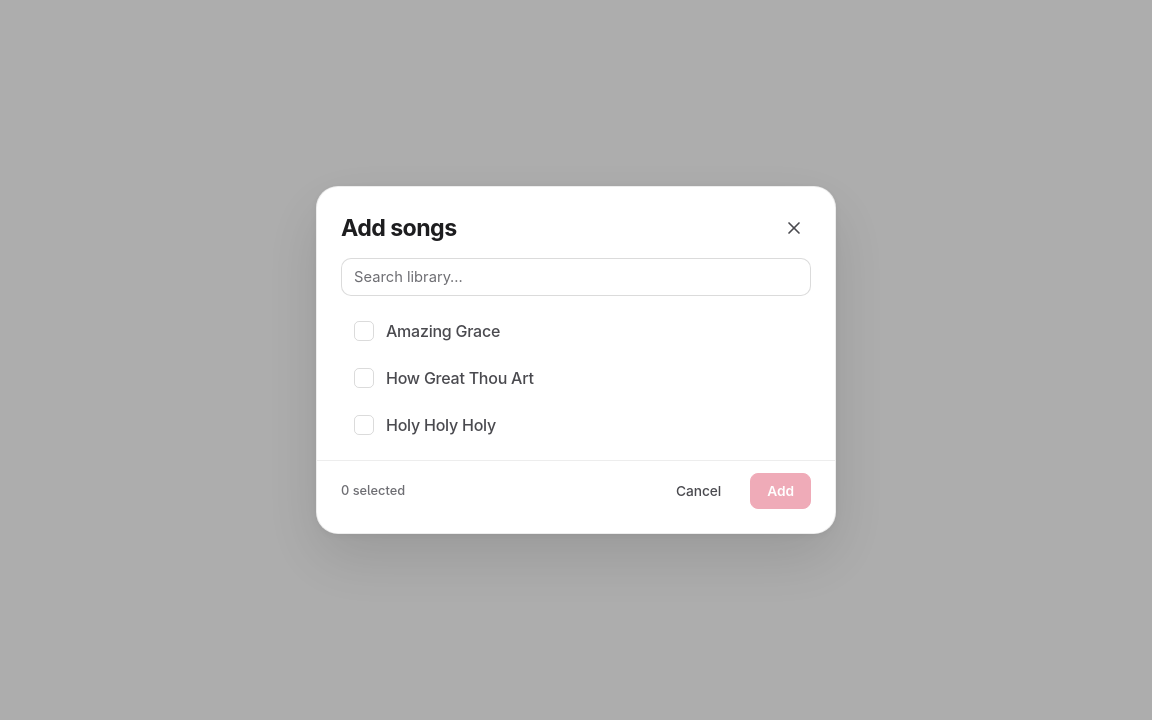
Test case: SongPicker › filters by the search query
This screenshot has width=1152, height=720.
Step 1. Type "holy" into the search field with placeholder "Search library…" → (576, 277), box [341,258,811,296]
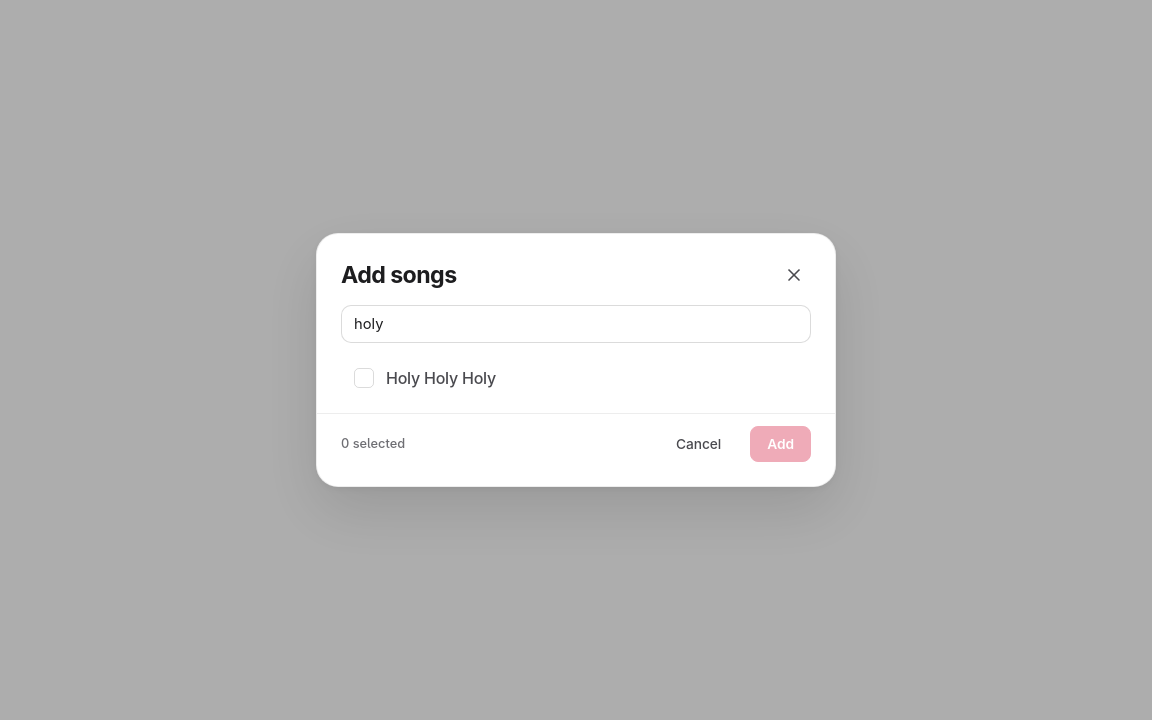
Expected: the text "Holy Holy Holy" is shown, [386,368,496,388]
Expected: the button "Amazing Grace" no longer shows "Amazing Grace"
